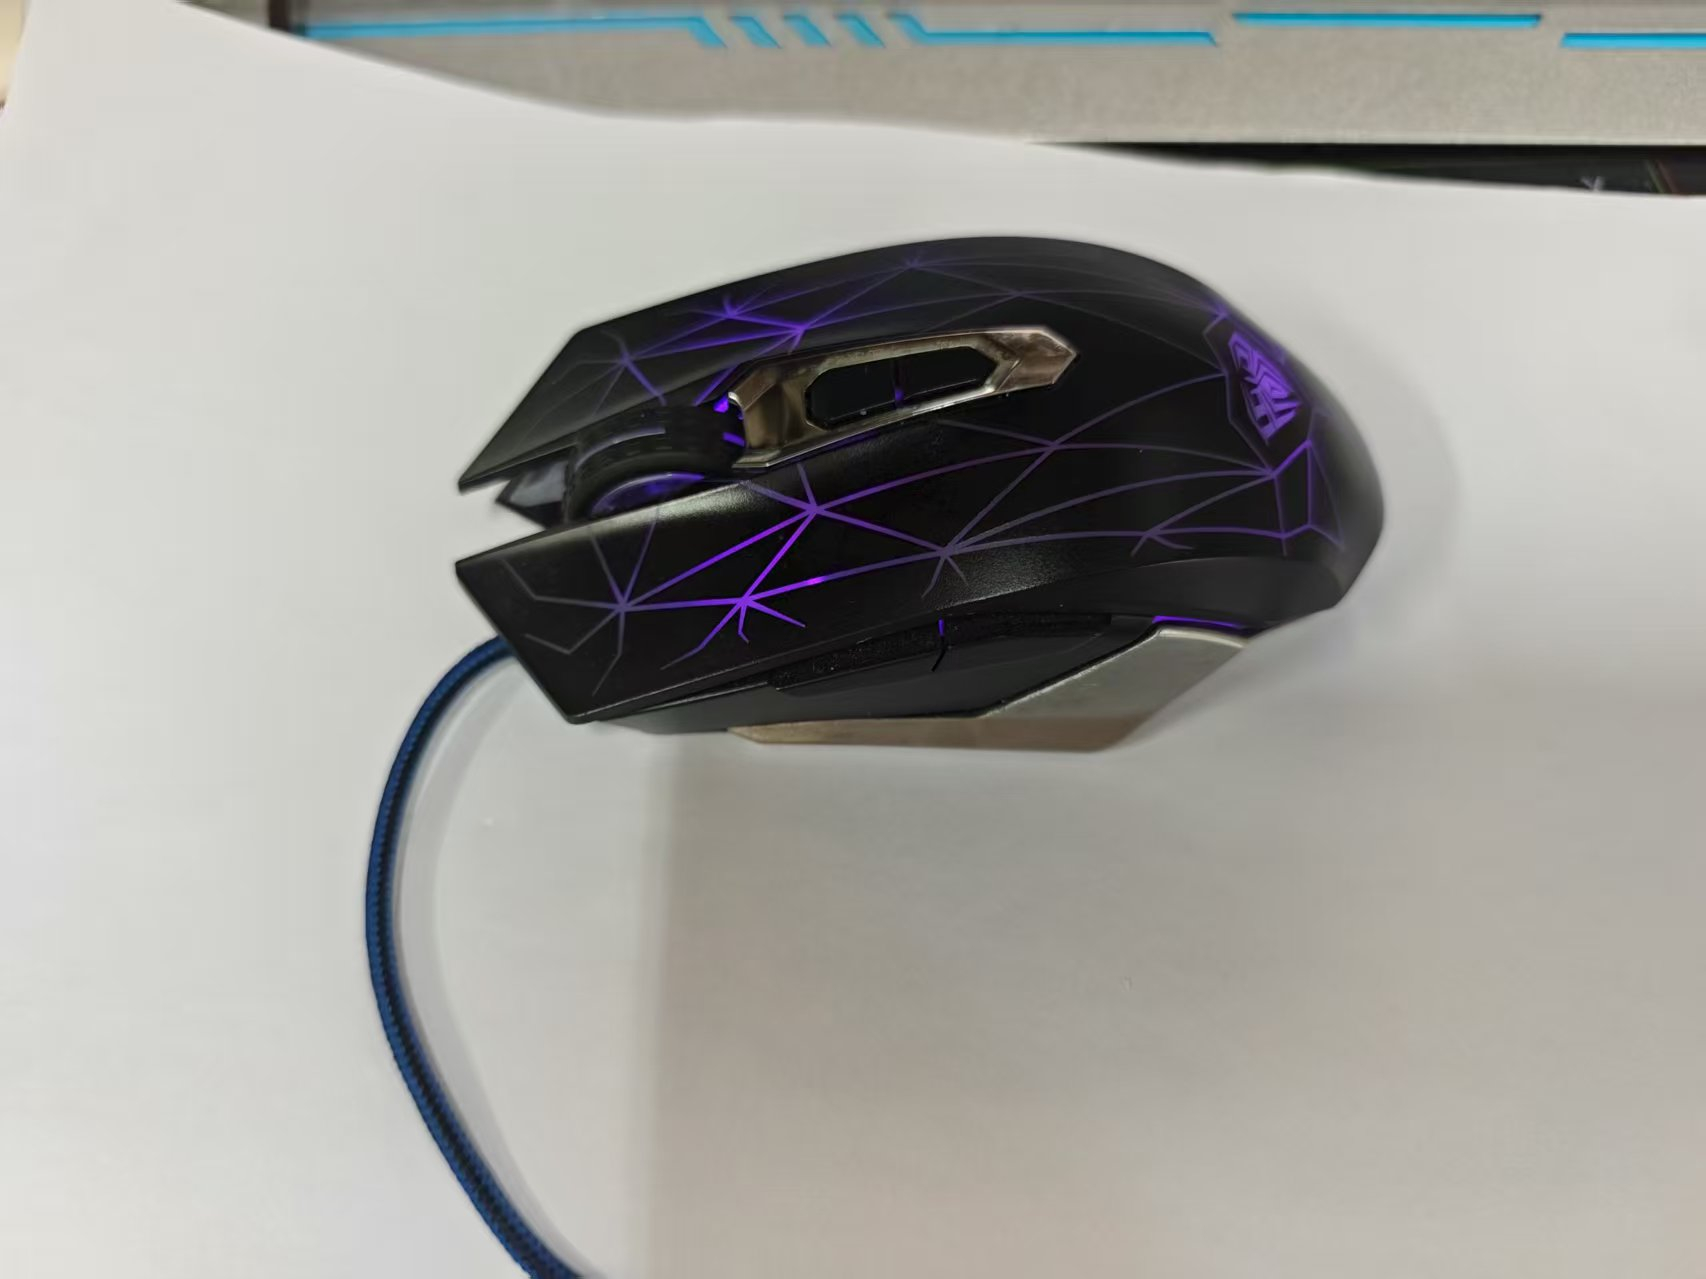mouse: (437, 202, 1380, 756)
